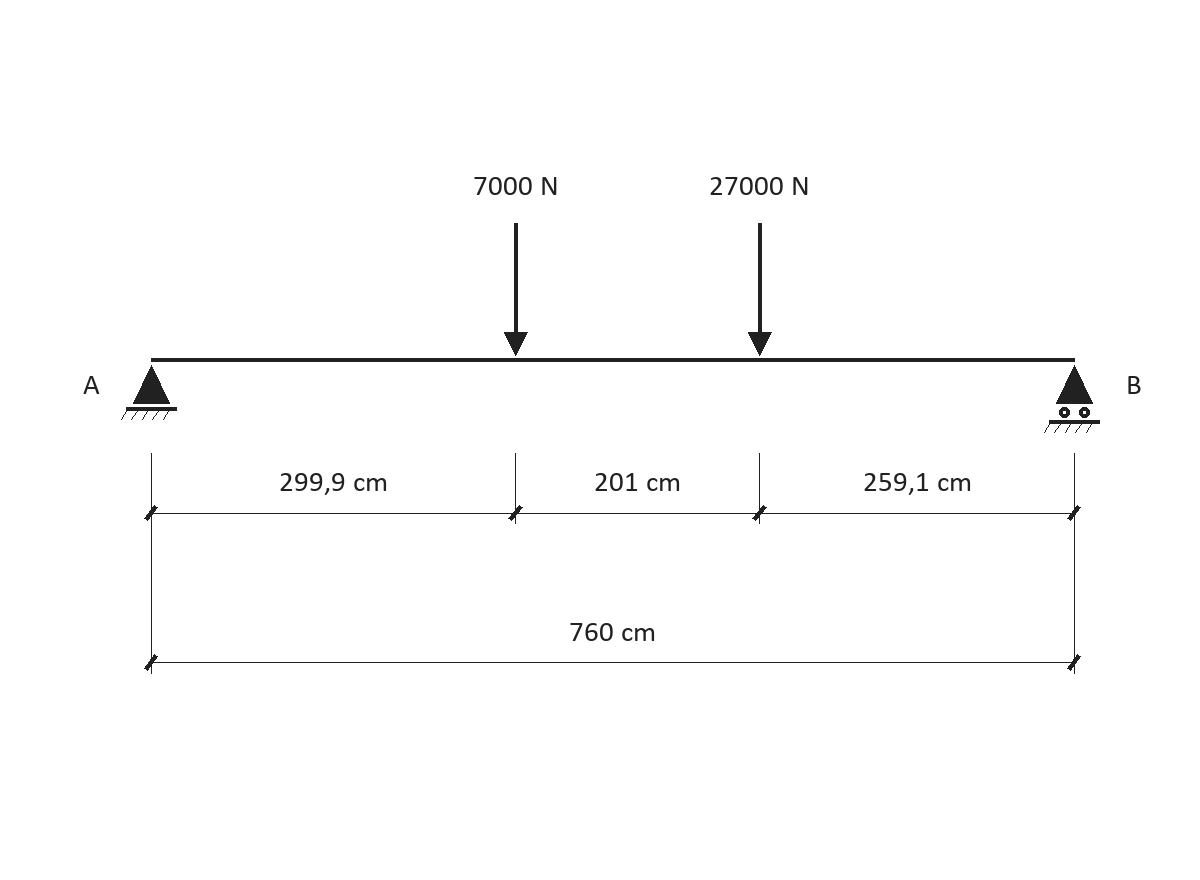pin_support: (121, 365, 177, 420)
point_load: (504, 223, 528, 356), (748, 223, 772, 356)
roller_support: (1044, 365, 1100, 433)
